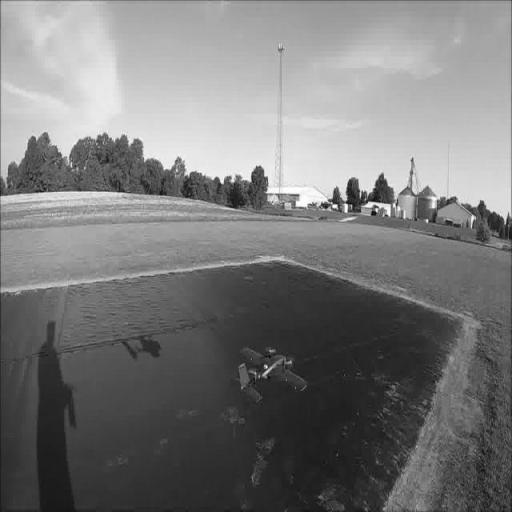uav: (232, 324, 310, 414)
